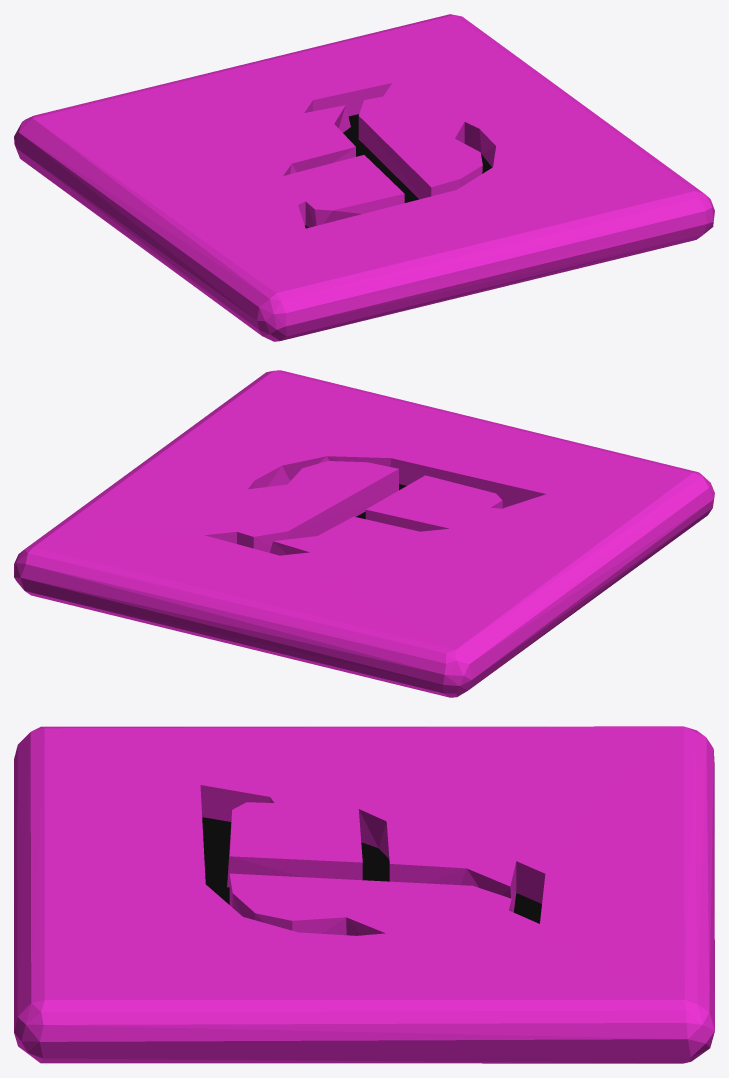
File: tile-F.glb
3 views of the same model, one above another, from view 1: azimuth 30°, elevation 25°; view 2: azimuth 150°, elevation 25°; view 3: azimuth 270°, elevation 25° (orthographic). The views are drawn at different scales.
Parts seen in each view (by area): view 1: tile-puzzle-F v1; view 2: tile-puzzle-F v1; view 3: tile-puzzle-F v1.
Part boxes in pixels (box(x1,y1,x2,y2)): tile-puzzle-F v1: box(14, 14, 714, 341); tile-puzzle-F v1: box(14, 370, 714, 697); tile-puzzle-F v1: box(14, 726, 714, 1063).
Bounding box in the file's own units: 40 × 3.94 × 39.99.
